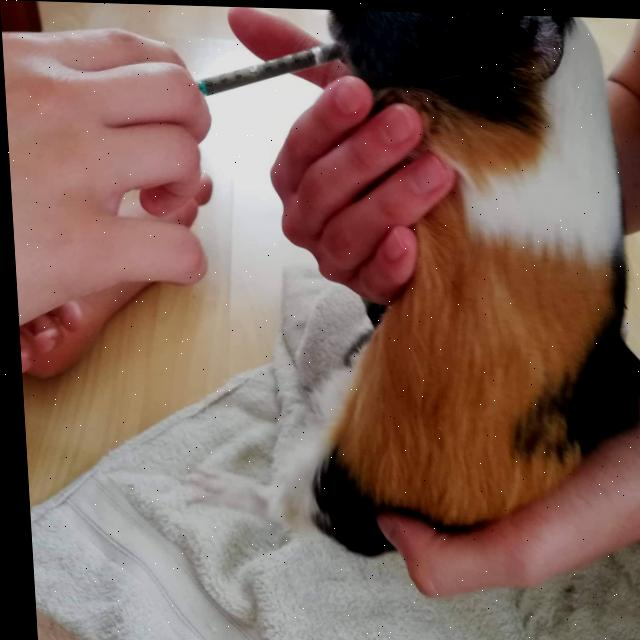guinea pig: (278, 6, 640, 563)
